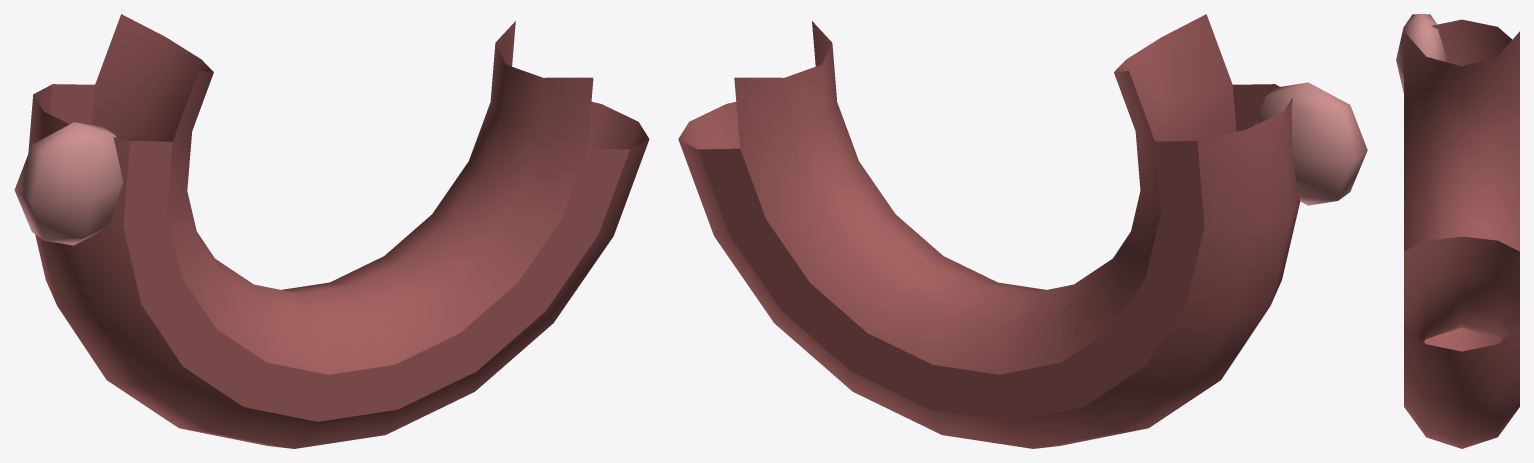
File: Face_Smirk.fbx
3 views of the same model, side by side, from view 1: azimuth 30°, elevation 25°; view 2: azimuth 150°, elevation 25°; view 3: azimuth 270°, elevation 25° (orthographic). The views are drawn at different scales.
Visible parts, largest first — view 1: Mouth, Mouth_Dimple; view 2: Mouth, Mouth_Dimple; view 3: Mouth, Mouth_Dimple.
Boxes of the visible parts, x1,y1,x2,y2 form: Mouth: [28, 14, 649, 448]; Mouth_Dimple: [14, 122, 123, 245]; Mouth: [678, 14, 1300, 448]; Mouth_Dimple: [1254, 82, 1367, 205]; Mouth: [1404, 19, 1519, 448]; Mouth_Dimple: [1396, 14, 1446, 92].
Size of the model in its own units: 10.91 by 7.11 by 2.44.
